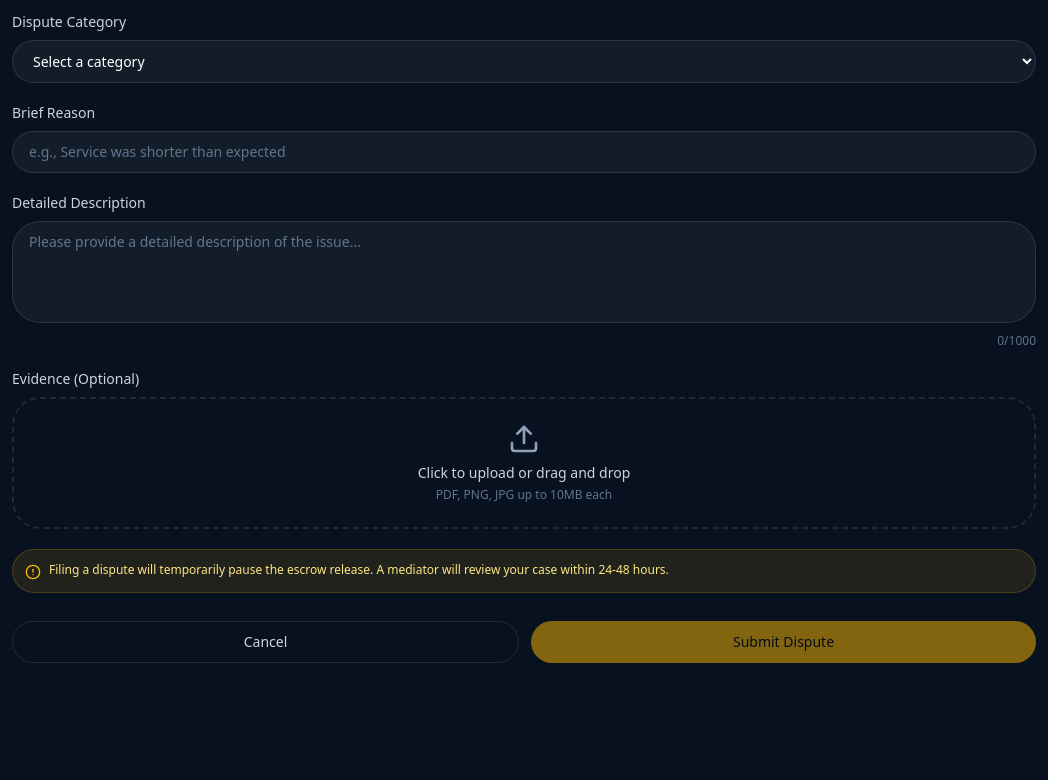
Scenario: DisputeFilingForm – submit button guard (invalid inputs) › is enabled once all three required fields are filled
Select "Quality Mismatch" in the dropdown at (524, 62), box [12, 40, 1036, 83]
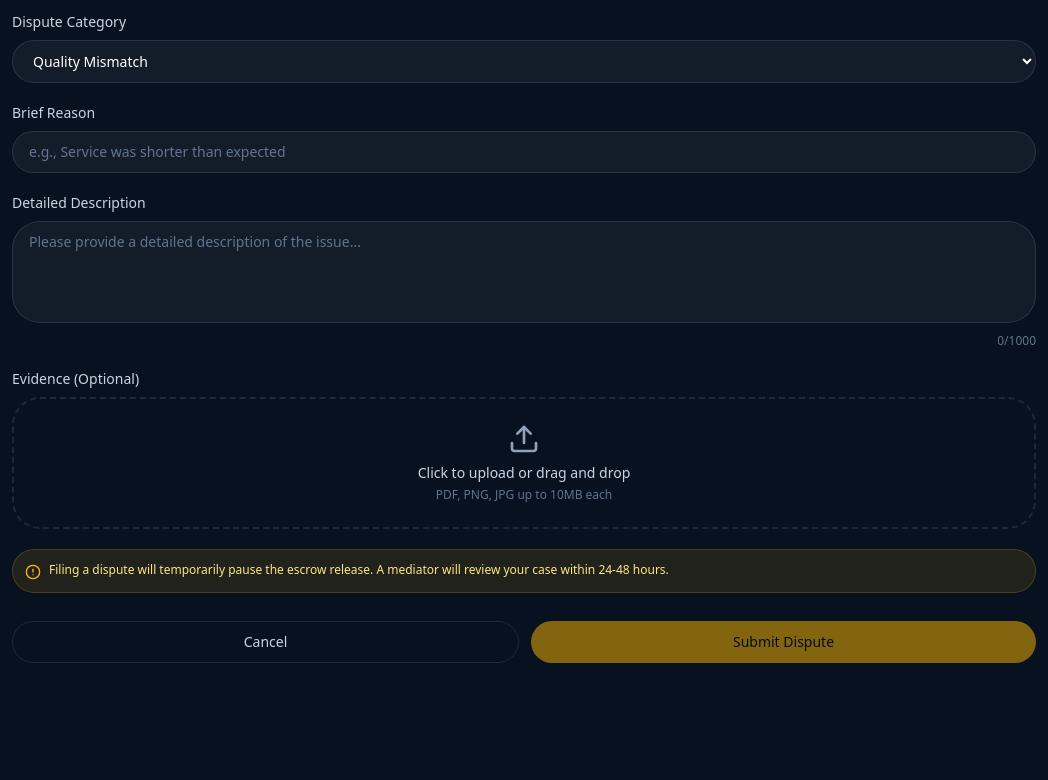
Type "Test reason" into the field with placeholder "e.g., Service was shorter than expected" at (524, 152), box [12, 131, 1036, 173]
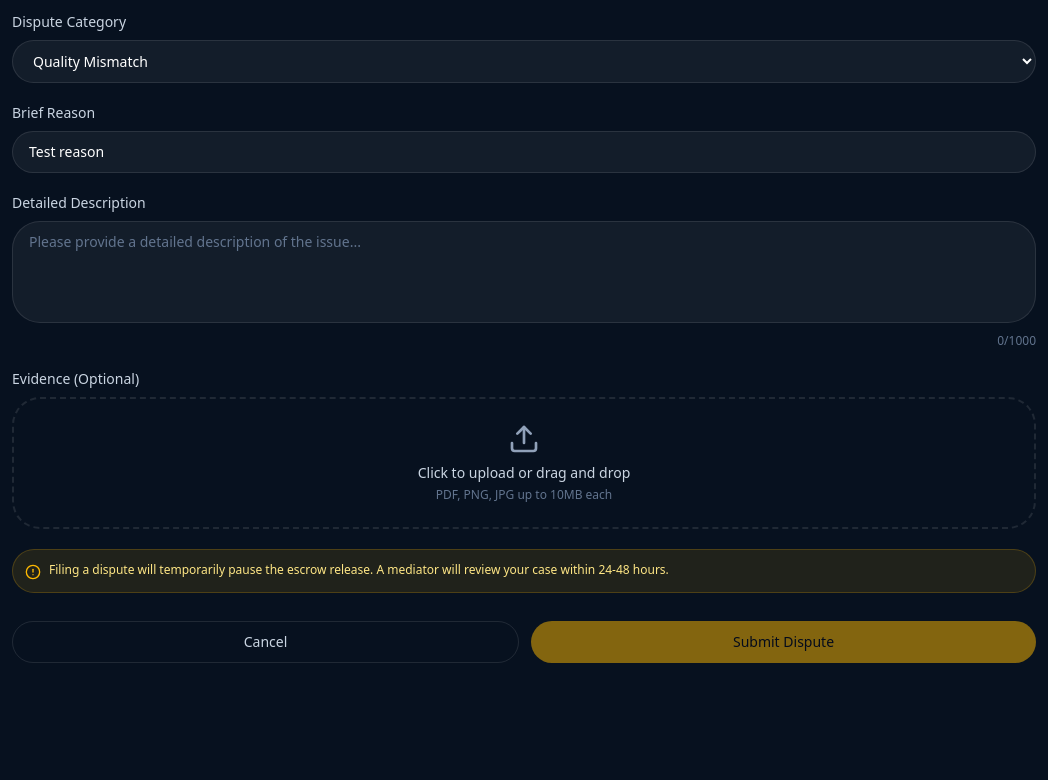
Type "Detailed description of the problem." into the text box with placeholder "Please provide a detailed description of the issue..." at (524, 272), box [12, 221, 1036, 323]
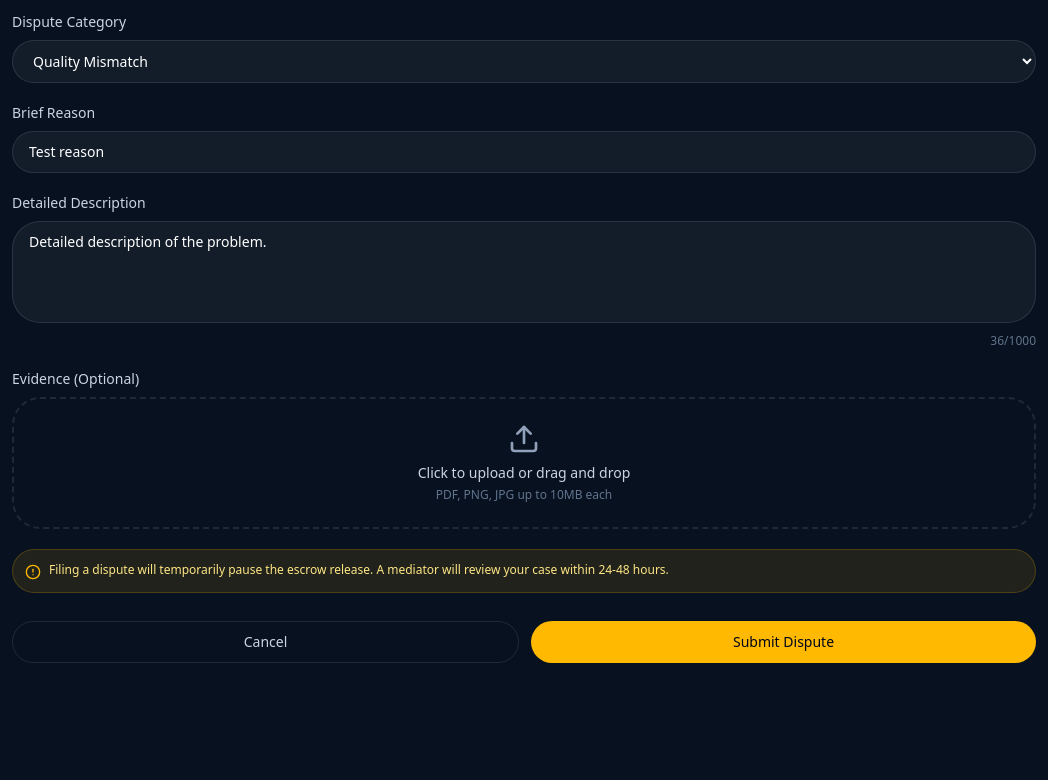
expect the button "Submit Dispute" is enabled: met, box [531, 621, 1036, 663]
